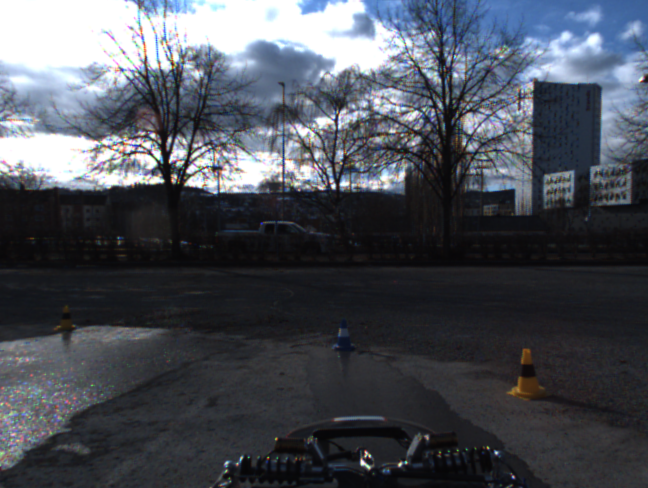cone-small-blue: (331, 318, 356, 352)
cone-small-yellow: (505, 348, 554, 401), (53, 305, 77, 331)
